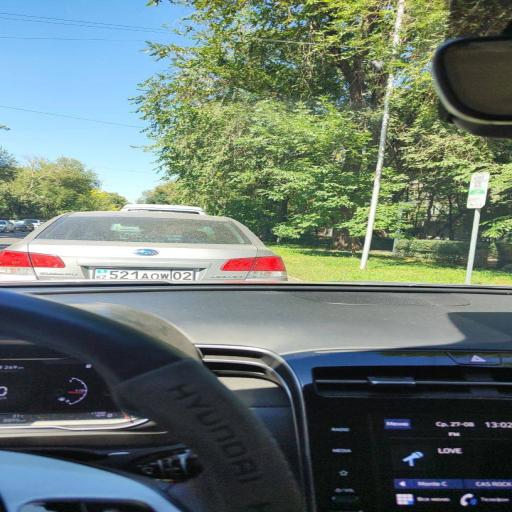bottle: (0, 276, 512, 512), (0, 208, 299, 285)
